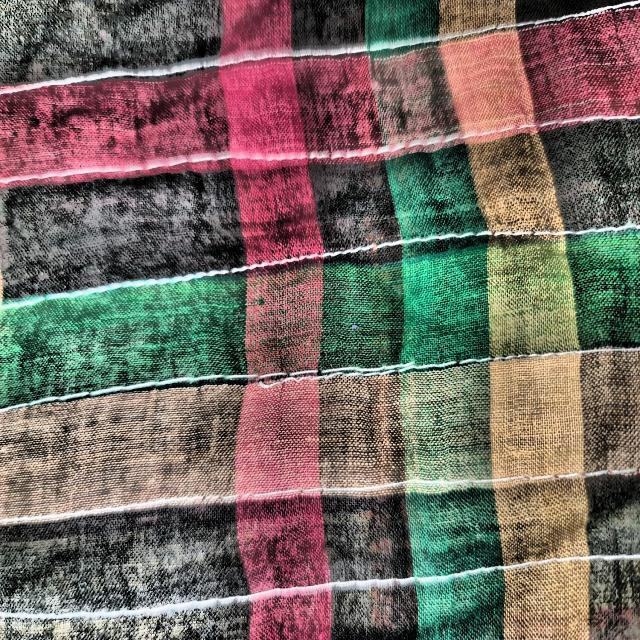gray stitch: (245, 345, 543, 412)
